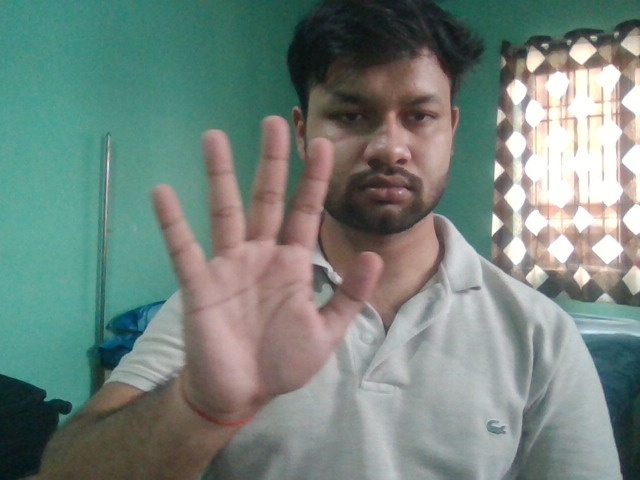Hello: (150, 114, 384, 406)
